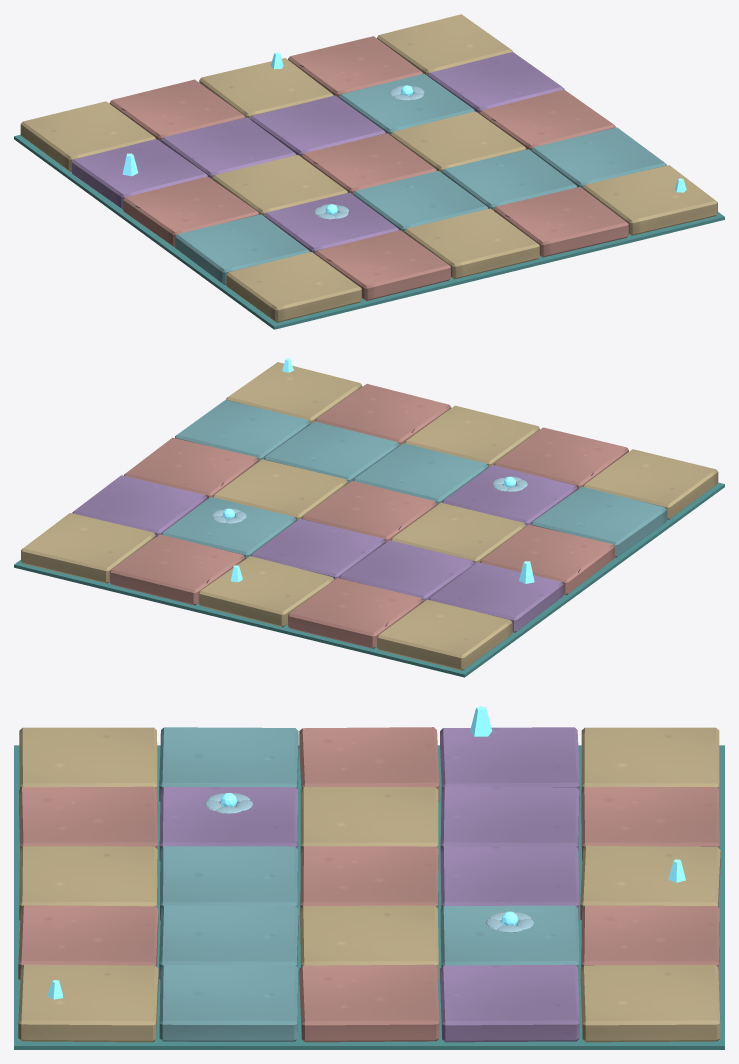
The model's file is floor_cute_decorated_3p9.glb.
The picture shows the model from 3 angles, top to bottom: view 1: azimuth 30°, elevation 25°; view 2: azimuth 150°, elevation 25°; view 3: azimuth 270°, elevation 25°; orthographic projection. The views are drawn at different scales.
Parts seen in each view (by area): view 1: CUTE_DECORATED_Tile_0_0, CUTE_DECORATED_Tile_1_0, CUTE_DECORATED_Tile_3_0, CUTE_DECORATED_Tile_2_0, CUTE_DECORATED_Grout, CUTE_DECORATED_Tile_4_0, CUTE_DECORATED_Tile_0_2, CUTE_DECORATED_Tile_0_1, CUTE_DECORATED_Tile_0_4, CUTE_DECORATED_Tile_0_3, CUTE_DECORATED_Tile_3_2, CUTE_DECORATED_Tile_3_4 (+14 smaller); view 2: CUTE_DECORATED_Tile_0_4, CUTE_DECORATED_Tile_3_4, CUTE_DECORATED_Tile_1_4, CUTE_DECORATED_Tile_4_4, CUTE_DECORATED_Grout, CUTE_DECORATED_Tile_2_4, CUTE_DECORATED_Tile_0_0, CUTE_DECORATED_Tile_0_1, CUTE_DECORATED_Tile_0_2, CUTE_DECORATED_Tile_0_3, CUTE_DECORATED_Tile_1_3, CUTE_DECORATED_Tile_1_2 (+14 smaller); view 3: CUTE_DECORATED_Grout, CUTE_DECORATED_Tile_4_2, CUTE_DECORATED_Tile_4_4, CUTE_DECORATED_Tile_4_3, CUTE_DECORATED_Tile_4_1, CUTE_DECORATED_Tile_4_0, CUTE_DECORATED_Tile_0_0, CUTE_DECORATED_Tile_3_0, CUTE_DECORATED_Tile_2_0, CUTE_DECORATED_Tile_0_4, CUTE_DECORATED_Tile_3_1, CUTE_DECORATED_Tile_3_2 (+14 smaller).
Boxes of the visible parts, bbox=[...] form: CUTE_DECORATED_Tile_0_0: bbox=[226, 252, 361, 322]; CUTE_DECORATED_Tile_1_0: bbox=[315, 230, 450, 300]; CUTE_DECORATED_Tile_3_0: bbox=[494, 187, 628, 257]; CUTE_DECORATED_Tile_2_0: bbox=[404, 208, 539, 279]; CUTE_DECORATED_Grout: bbox=[14, 134, 724, 329]; CUTE_DECORATED_Tile_4_0: bbox=[583, 165, 717, 235]; CUTE_DECORATED_Tile_0_2: bbox=[123, 176, 259, 247]; CUTE_DECORATED_Tile_0_1: bbox=[175, 214, 310, 284]; CUTE_DECORATED_Tile_0_4: bbox=[20, 101, 155, 171]; CUTE_DECORATED_Tile_0_3: bbox=[72, 139, 207, 209]; CUTE_DECORATED_Tile_3_2: bbox=[390, 111, 526, 173]; CUTE_DECORATED_Tile_3_4: bbox=[288, 36, 423, 97]; CUTE_DECORATED_Tile_0_4: bbox=[377, 599, 512, 670]; CUTE_DECORATED_Tile_3_4: bbox=[109, 534, 245, 605]; CUTE_DECORATED_Tile_1_4: bbox=[288, 578, 423, 648]; CUTE_DECORATED_Tile_4_4: bbox=[21, 513, 155, 583]; CUTE_DECORATED_Grout: bbox=[14, 482, 724, 677]; CUTE_DECORATED_Tile_2_4: bbox=[198, 556, 334, 627]; CUTE_DECORATED_Tile_0_0: bbox=[583, 449, 718, 519]; CUTE_DECORATED_Tile_0_1: bbox=[531, 486, 666, 557]; CUTE_DECORATED_Tile_0_2: bbox=[480, 524, 614, 595]; CUTE_DECORATED_Tile_0_3: bbox=[429, 562, 563, 632]; CUTE_DECORATED_Tile_1_3: bbox=[339, 540, 474, 602]; CUTE_DECORATED_Tile_1_2: bbox=[391, 502, 526, 563]; CUTE_DECORATED_Grout: bbox=[14, 745, 724, 1049]; CUTE_DECORATED_Tile_4_2: bbox=[299, 964, 439, 1042]; CUTE_DECORATED_Tile_4_4: bbox=[580, 964, 720, 1042]; CUTE_DECORATED_Tile_4_3: bbox=[440, 964, 579, 1042]; CUTE_DECORATED_Tile_4_1: bbox=[159, 965, 298, 1041]; CUTE_DECORATED_Tile_4_0: bbox=[18, 964, 158, 1042]; CUTE_DECORATED_Tile_0_0: bbox=[19, 727, 157, 801]; CUTE_DECORATED_Tile_3_0: bbox=[18, 905, 158, 980]; CUTE_DECORATED_Tile_2_0: bbox=[19, 846, 157, 920]; CUTE_DECORATED_Tile_0_4: bbox=[581, 727, 719, 801]; CUTE_DECORATED_Tile_3_1: bbox=[159, 905, 298, 979]; CUTE_DECORATED_Tile_3_2: bbox=[300, 905, 438, 979].
Bounding box in the file's own units: 3.95 × 0.3615 × 3.95.
7 materials, 4 textured.
